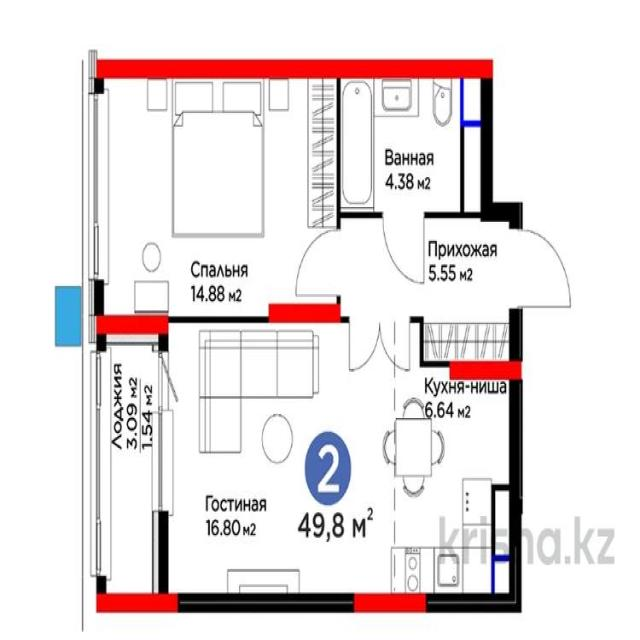balcony: (95, 323, 163, 603)
bathroom: (336, 68, 486, 217)
hallway: (337, 215, 519, 365)
living_room: (97, 68, 341, 318)
studio: (163, 319, 520, 605)
